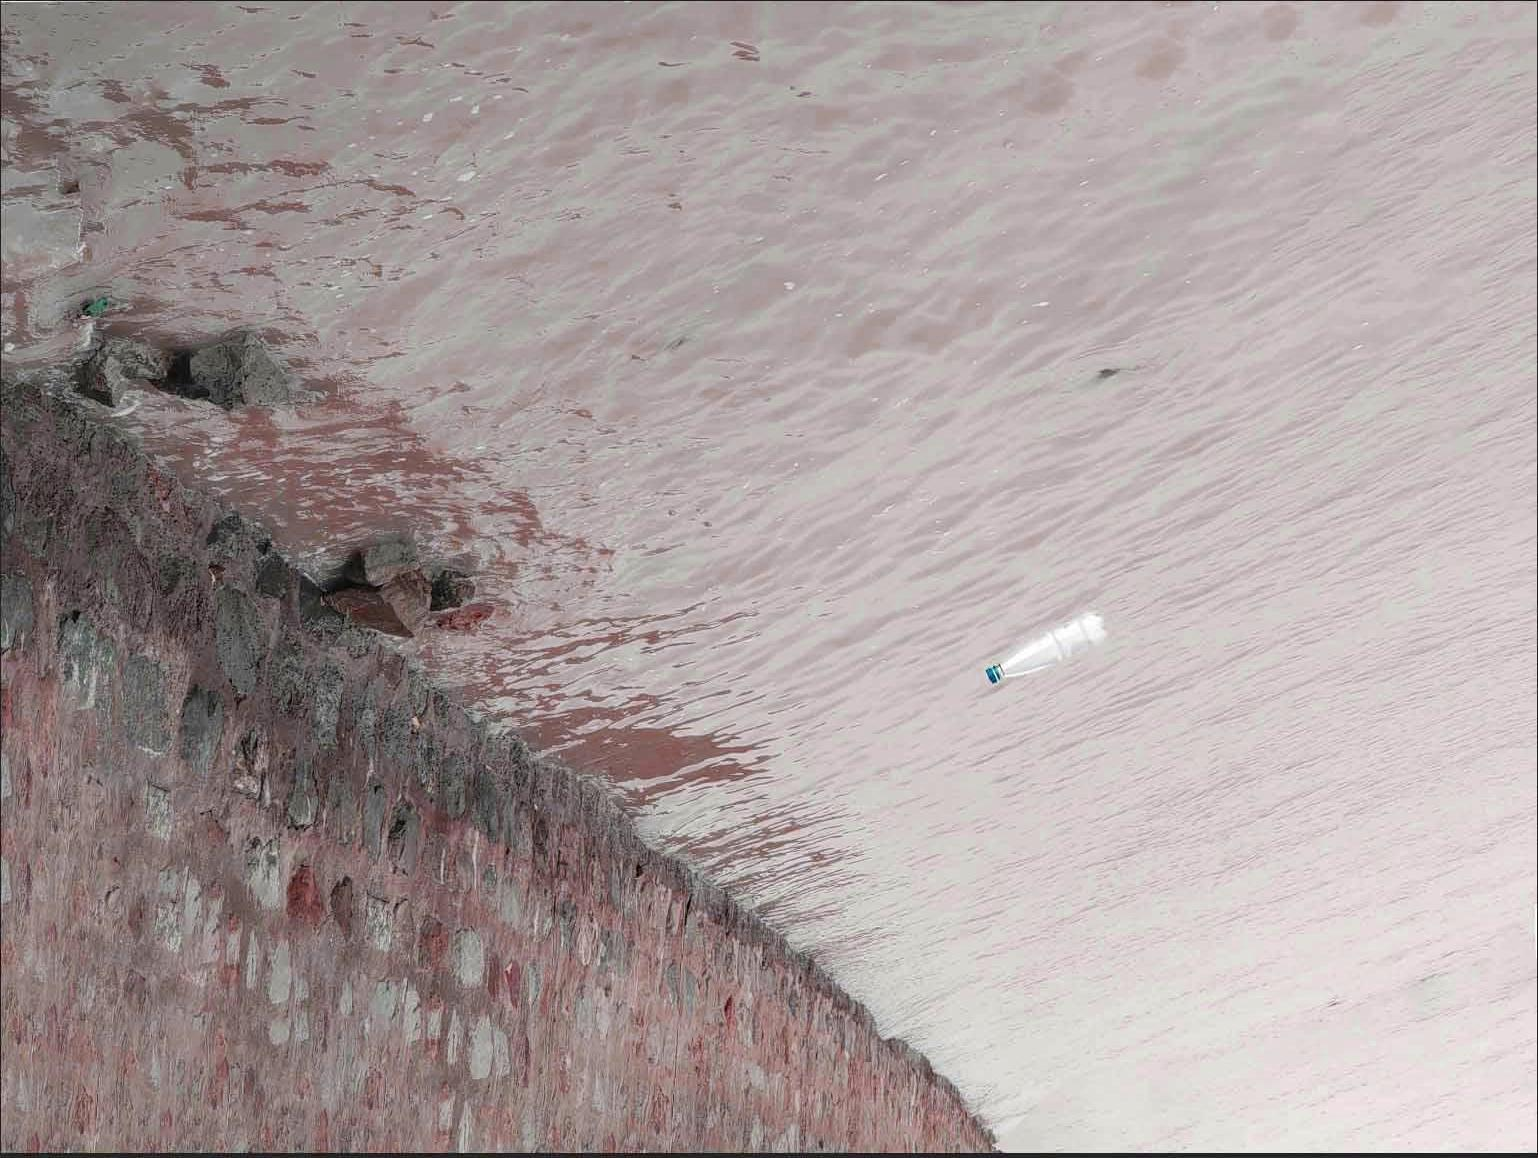Plastic: (978, 606, 1111, 691)
